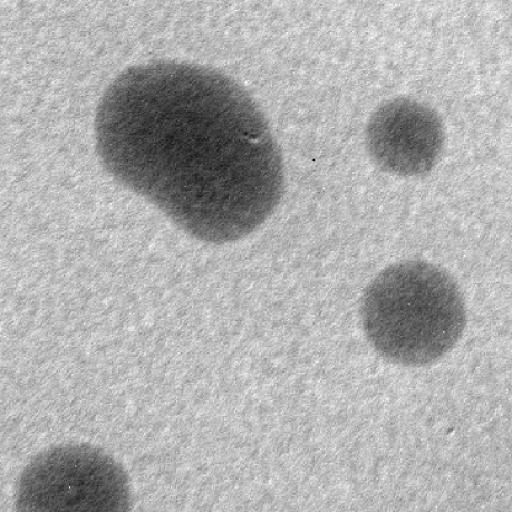Nanoparticles: (95, 62, 289, 246), (357, 257, 474, 370), (13, 440, 134, 512), (363, 92, 448, 179)
